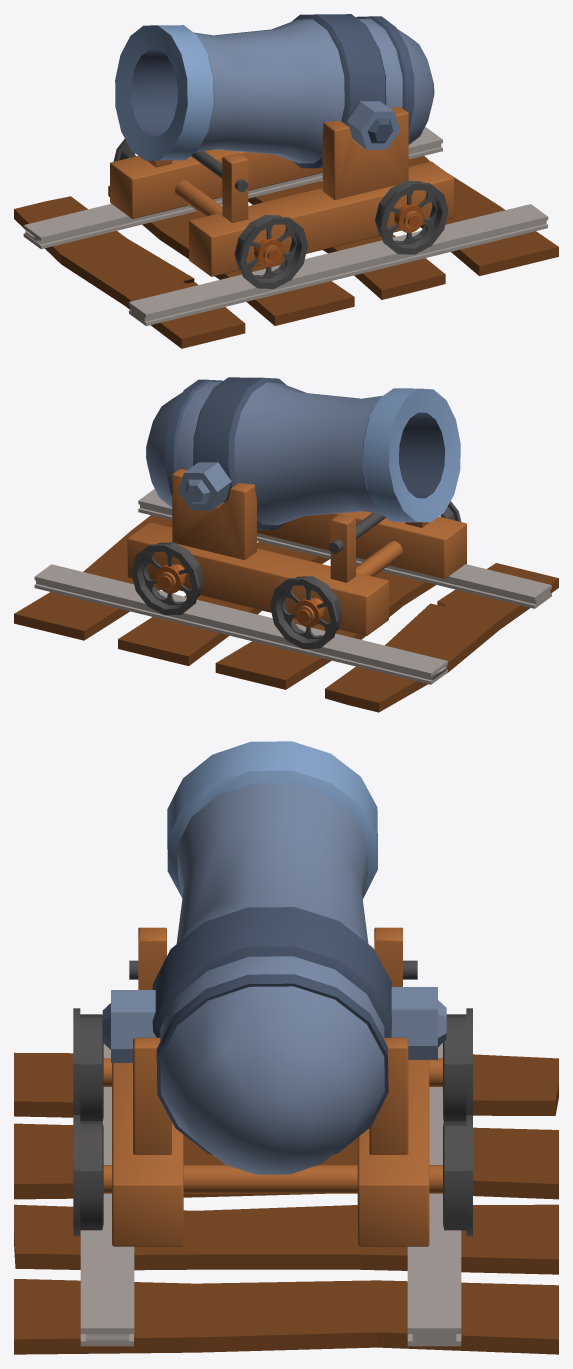
Rendered from cannon.fbx.
3 views of the same model, one above another, from view 1: azimuth 30°, elevation 25°; view 2: azimuth 150°, elevation 25°; view 3: azimuth 270°, elevation 25° (orthographic). The views are drawn at different scales.
Visible parts, largest first — view 1: Object_4, Cube.032, cannon frame_0, Cylinder.010, Cylinder.012, Cylinder.008, Cylinder.011; view 2: Object_4, Cube.032, cannon frame_0, Cylinder.009, Cylinder.004, Cylinder.008, Cylinder.011; view 3: Object_4, Cube.032, cannon frame_0, Cylinder.011, Cylinder.012, Cylinder.009, Cylinder.010, Cylinder.004.
Boxes of the visible parts, x1,y1,x2,y2 form: Object_4: (115, 14, 434, 168); Cube.032: (14, 127, 558, 348); cannon frame_0: (110, 106, 453, 276); Cylinder.010: (234, 215, 307, 288); Cylinder.012: (375, 180, 448, 254); Cylinder.008: (175, 180, 283, 267); Cylinder.011: (394, 202, 424, 232); Object_4: (145, 377, 460, 530); Cube.032: (14, 489, 558, 712); cannon frame_0: (127, 468, 466, 635); Cylinder.009: (131, 542, 203, 615); Cylinder.004: (270, 576, 342, 649); Cylinder.008: (294, 541, 402, 627); Cylinder.011: (155, 564, 186, 593); Object_4: (102, 741, 446, 1174); Cube.032: (14, 1043, 558, 1354); cannon frame_0: (112, 927, 429, 1246); Cylinder.011: (103, 1165, 442, 1193); Cylinder.012: (73, 1115, 103, 1236); Cylinder.009: (443, 1115, 472, 1236); Cylinder.010: (73, 1008, 103, 1121); Cylinder.004: (443, 1008, 472, 1121).
Bounding box in the file's own units: 1329 × 764 × 1003.
